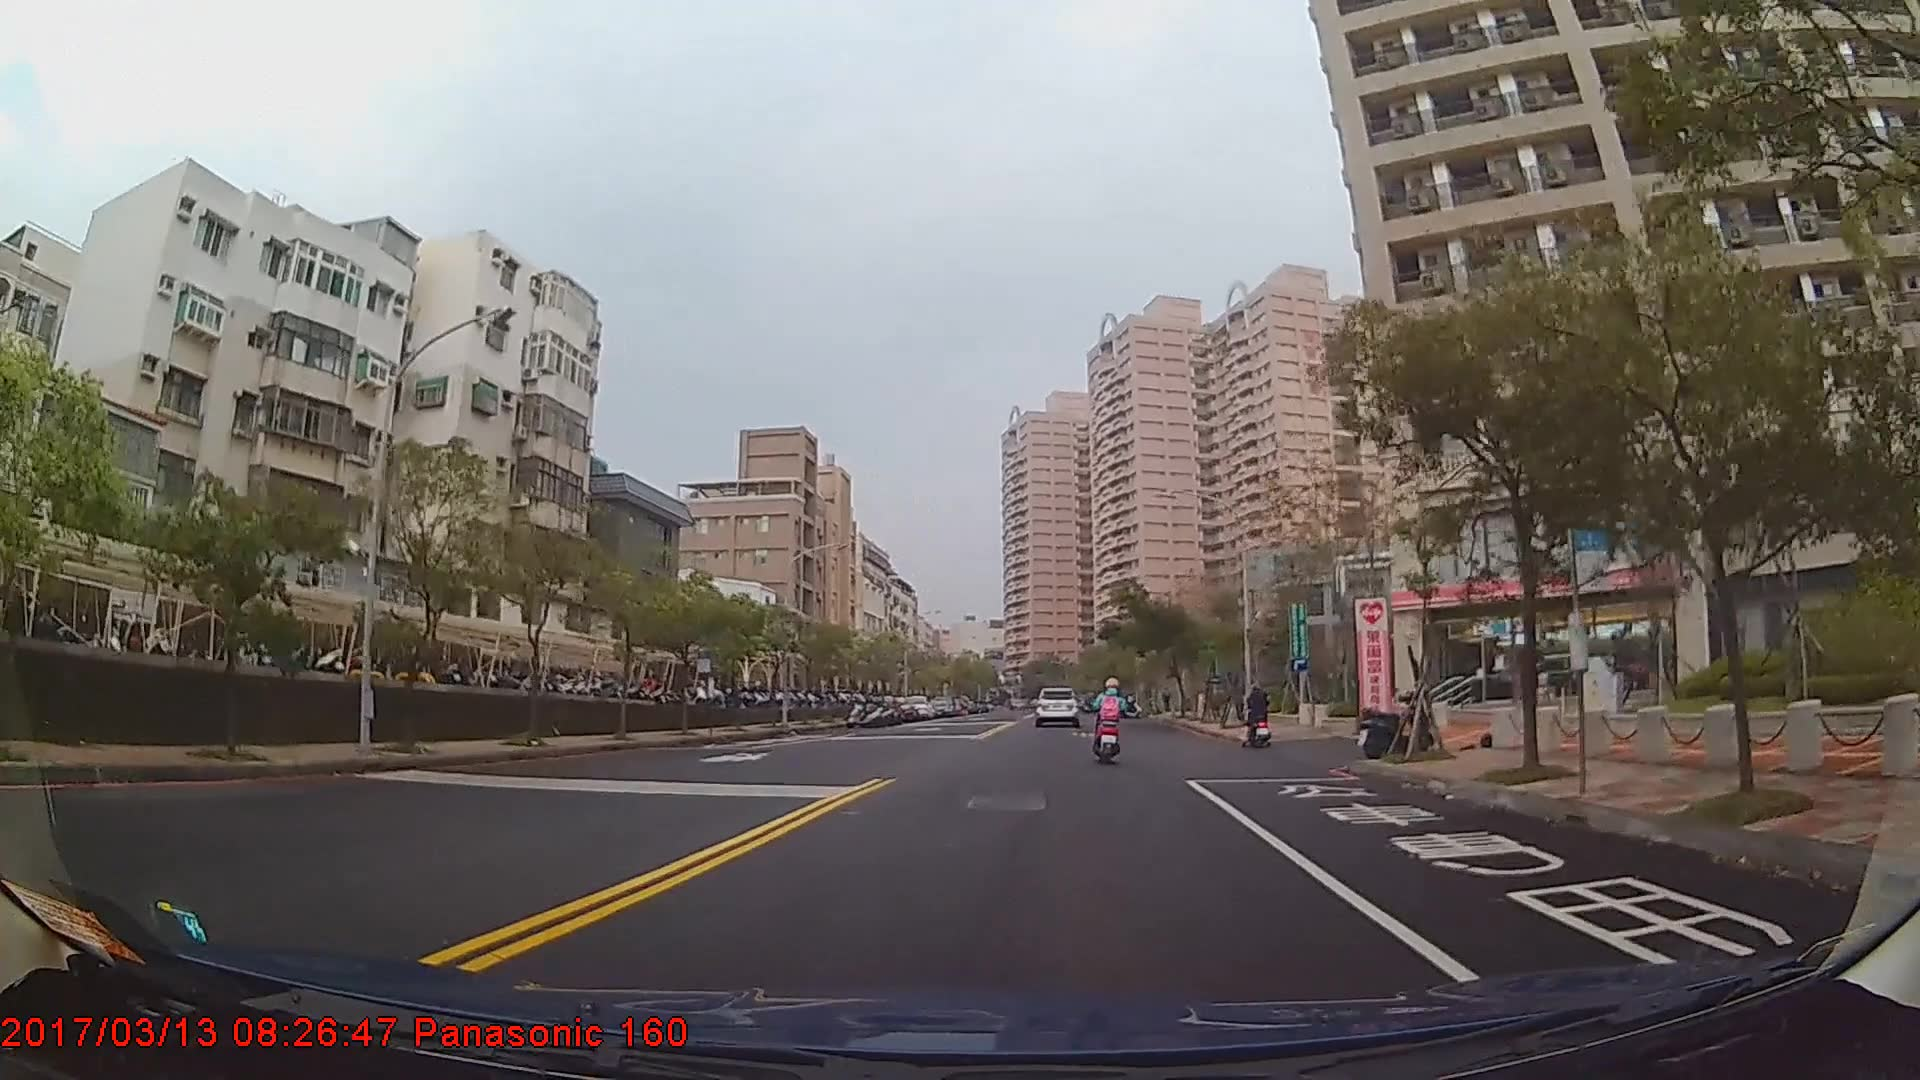rider: (1089, 677, 1130, 762), (1242, 680, 1272, 749)
vehicle: (1030, 686, 1081, 728), (896, 695, 931, 721)
